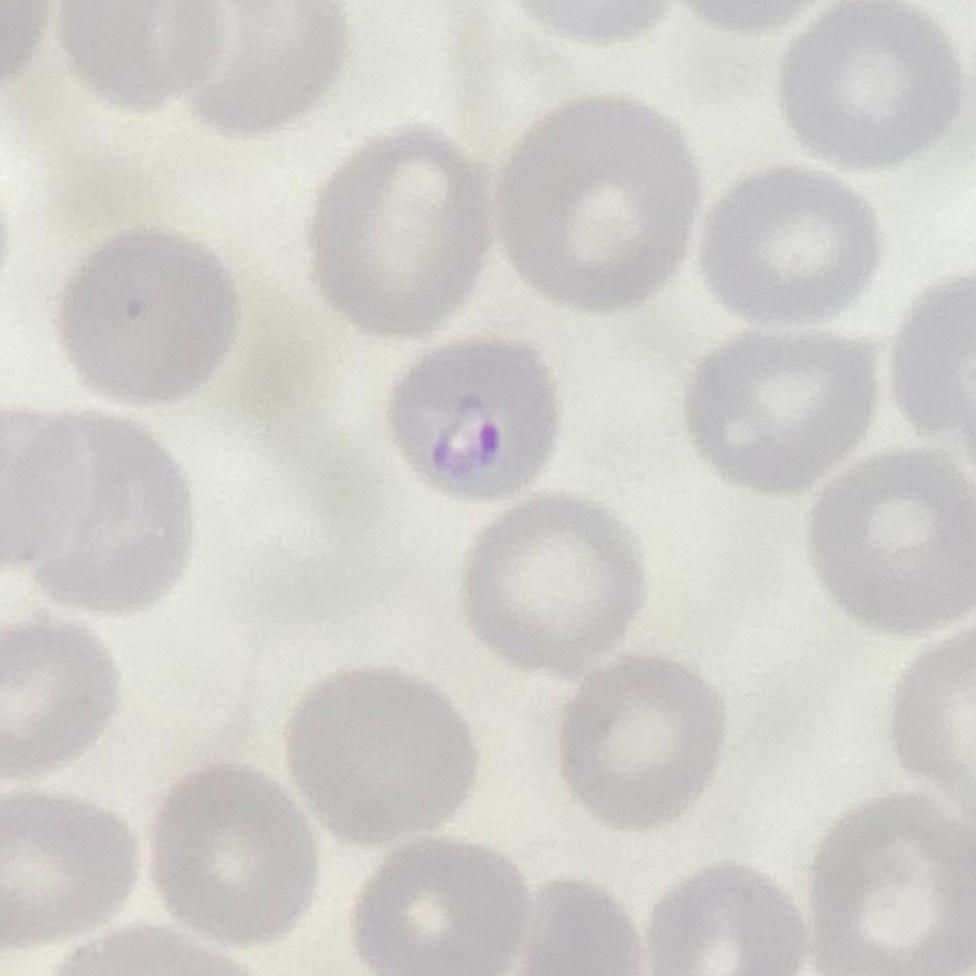Infected: (388, 333, 561, 510)
Uninfected: (493, 101, 701, 313), (308, 121, 482, 339), (285, 661, 472, 848), (455, 493, 641, 676), (802, 448, 976, 643), (55, 228, 241, 410), (685, 321, 882, 491), (17, 413, 184, 608), (810, 788, 976, 976), (778, 1, 961, 166), (693, 166, 876, 328), (152, 761, 314, 942), (562, 658, 728, 828), (355, 828, 524, 976), (158, 0, 341, 136), (0, 791, 146, 958), (0, 616, 119, 786), (53, 0, 221, 119), (642, 861, 802, 976)
